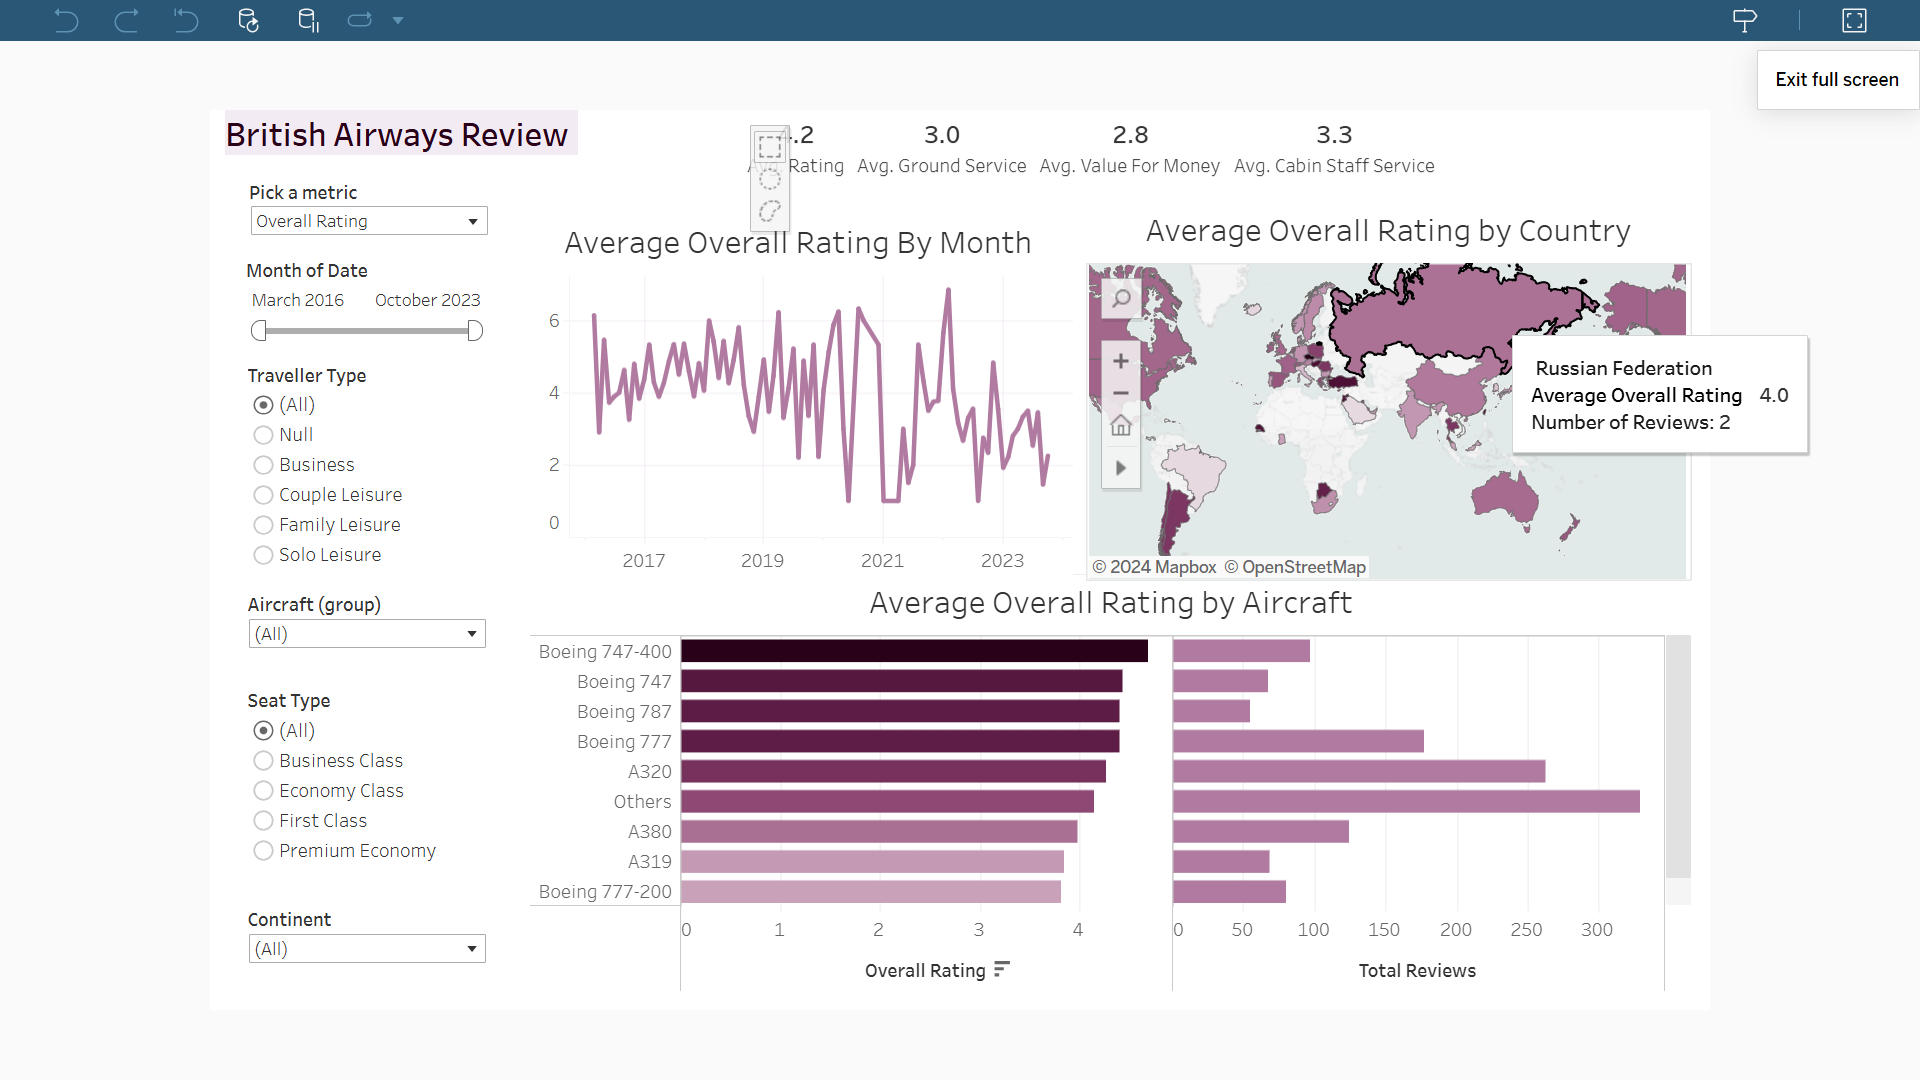

Layout of this report page (visuals, bound fields, positions):
{"tool":"tableau","page":{"name":"Dashboard 1","canvas":[1000,600],"ordinal":0},"visuals":[{"type":"text","box":[10,0,235,30]},{"type":"worksheet","title":"Summary","mark":"Automatic","box":[350,0,500,310]},{"type":"parameter","param":"[Parameters].[Parameter 1]","box":[26,45,160,48]},{"type":"worksheet","title":"Map","mark":"Automatic","box":[584,59,404,255]},{"type":"worksheet","title":"month","mark":"Automatic","rows":["Calculation_1055538190508036"],"cols":["date"],"box":[209,67,366,247]},{"type":"filter","title":"Map","param":"[federated.0pwc72611mdq2111i2pp107hb553].[tmn:date:qk]","box":[24,97,160,62]},{"type":"filter","title":"Map","param":"[federated.0pwc72611mdq2111i2pp107hb553].[none:traveller_type:nk]","box":[25,167,160,145]},{"type":"worksheet","title":"Aircraft","mark":"Automatic","cols":["Calculation_1055538190508036","ba_reviews.csv_6FAB8B9040F3418794D8CA142EDC6A79"],"box":[213,307,775,281]},{"type":"filter","title":"Map","param":"[federated.0pwc72611mdq2111i2pp107hb553].[Aircraft (group)]","box":[25,320,160,48]},{"type":"filter","title":"Map","param":"[federated.0pwc72611mdq2111i2pp107hb553].[none:seat_type:nk]","box":[25,384,160,125]},{"type":"filter","title":"Map","param":"[federated.0pwc72611mdq2111i2pp107hb553].[none:Continent:nk]","box":[25,530,160,48]}]}

Visuals, with their boxes on the page's 1000x600 design canvas (x1, y1, x2, y2). These are canvas units, not pixel positions in the 1920x1080 screenshot, which may show the page scaled, cropped or inside an application window:
text: pyautogui.locateOnScreen(10, 0, 245, 30)
"Summary" worksheet: pyautogui.locateOnScreen(350, 0, 850, 310)
parameter: pyautogui.locateOnScreen(26, 45, 186, 93)
"Map" worksheet: pyautogui.locateOnScreen(584, 59, 988, 314)
"month" worksheet: pyautogui.locateOnScreen(209, 67, 575, 314)
"Map" filter: pyautogui.locateOnScreen(24, 97, 184, 159)
"Map" filter: pyautogui.locateOnScreen(25, 167, 185, 312)
"Aircraft" worksheet: pyautogui.locateOnScreen(213, 307, 988, 588)
"Map" filter: pyautogui.locateOnScreen(25, 320, 185, 368)
"Map" filter: pyautogui.locateOnScreen(25, 384, 185, 509)
"Map" filter: pyautogui.locateOnScreen(25, 530, 185, 578)
